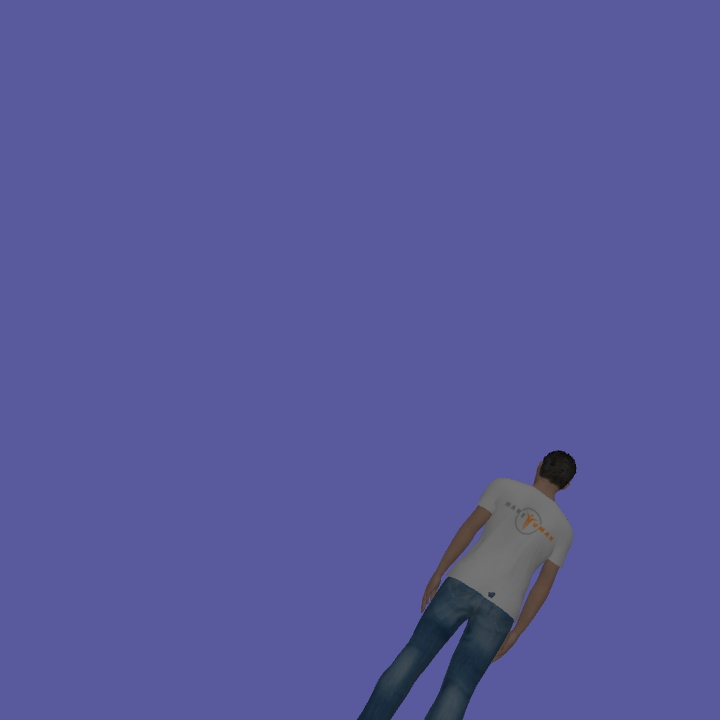victim: (356, 441, 580, 718)
